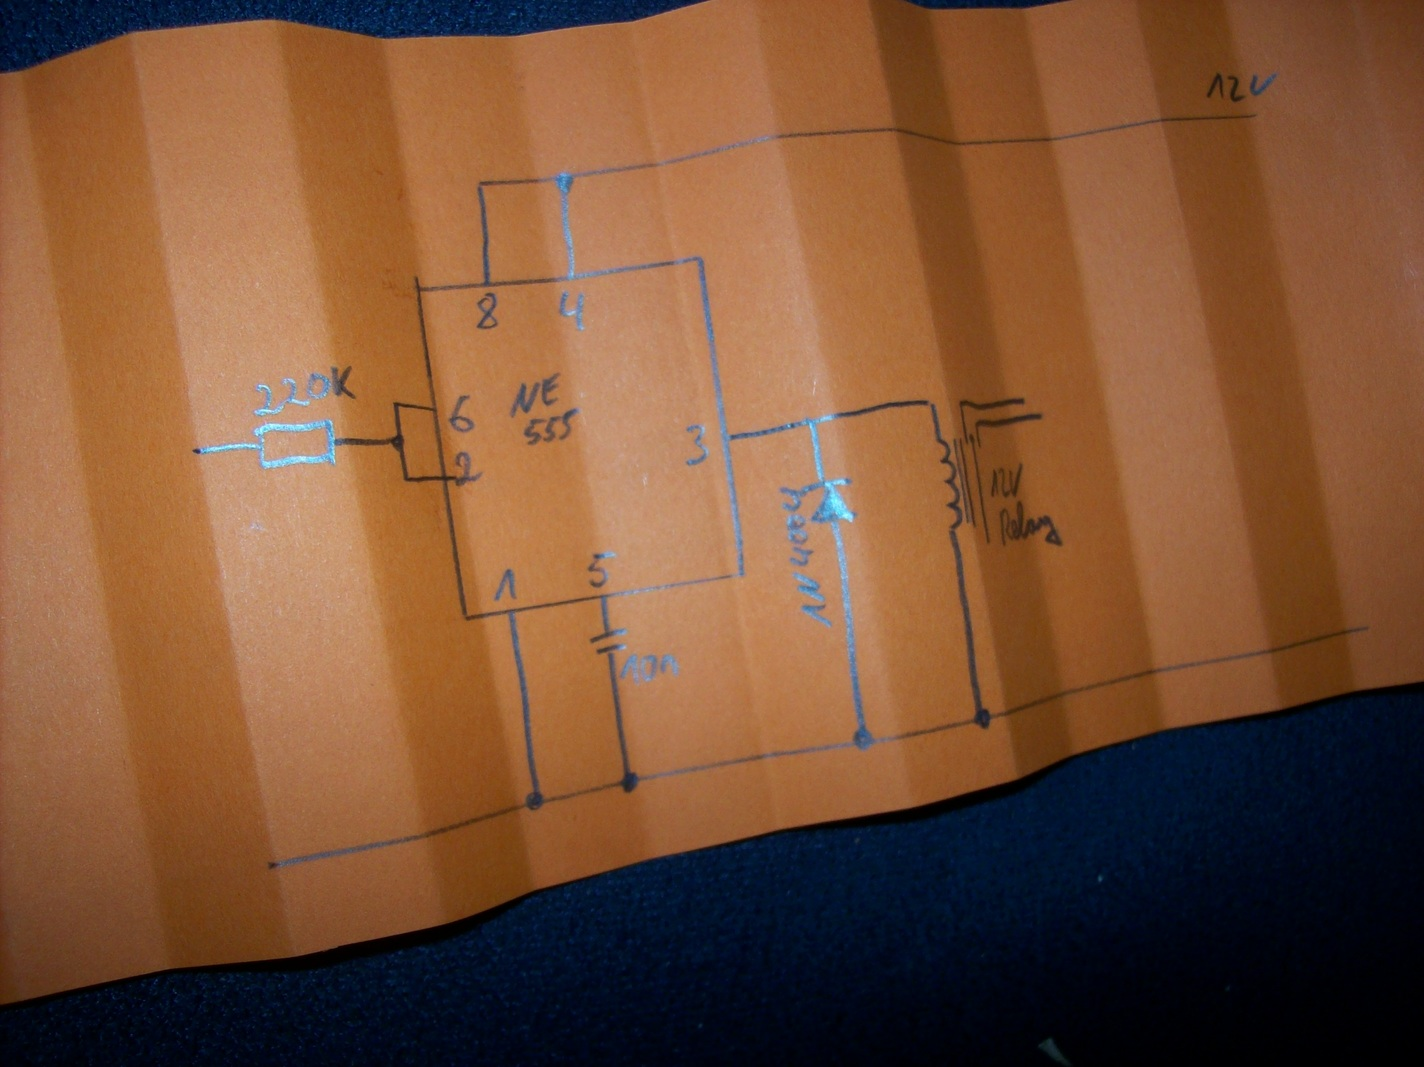capacitor.unpolarized: (589, 627, 632, 656)
diode: (800, 473, 860, 526)
integrated_cricuit.ne555: (415, 252, 747, 624)
junction: (849, 725, 877, 753), (522, 788, 549, 813), (553, 169, 578, 195), (618, 769, 642, 794), (971, 706, 995, 731), (388, 433, 408, 452), (802, 414, 821, 429), (473, 178, 490, 193), (922, 397, 938, 410), (953, 395, 968, 408), (972, 416, 985, 429), (401, 472, 412, 484), (391, 399, 403, 410)
relay: (932, 432, 992, 533)
resistor: (251, 417, 345, 471)
terminal: (259, 854, 285, 874), (1241, 106, 1262, 122), (187, 444, 206, 460), (1357, 619, 1374, 635), (1031, 407, 1049, 423), (1015, 393, 1029, 407), (983, 533, 994, 548)
text: (776, 484, 834, 629), (508, 368, 584, 448), (254, 363, 359, 416), (996, 500, 1065, 550), (1202, 69, 1279, 105), (618, 651, 680, 685), (557, 285, 589, 333), (445, 392, 478, 436), (682, 420, 713, 468), (452, 447, 485, 488), (585, 547, 616, 590), (988, 463, 1026, 498), (491, 564, 521, 604), (474, 290, 500, 333)
